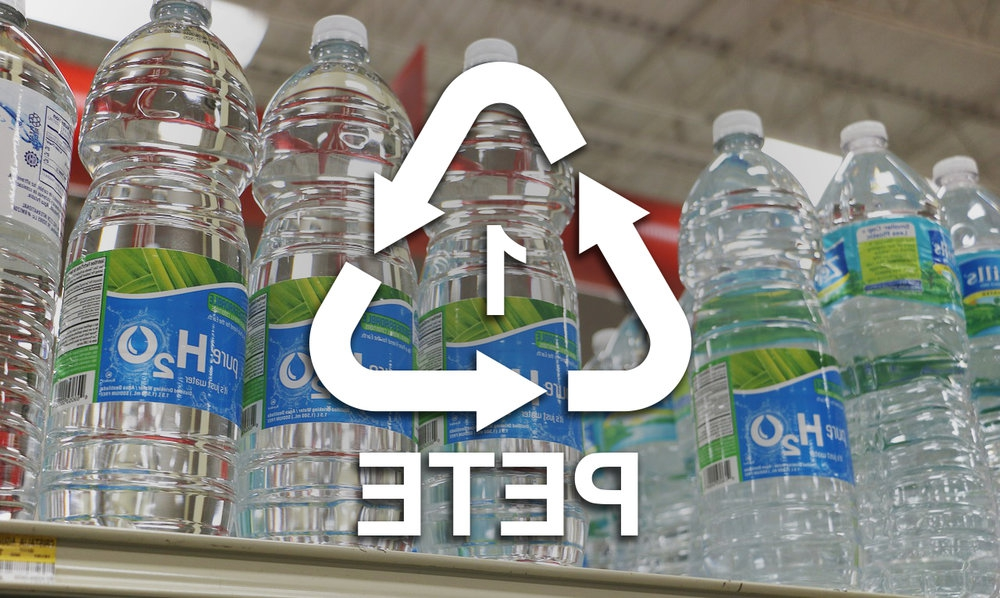plastic water bottle: (28, 1, 248, 539), (662, 96, 866, 587), (424, 29, 596, 574), (252, 10, 417, 558), (818, 114, 981, 598)
